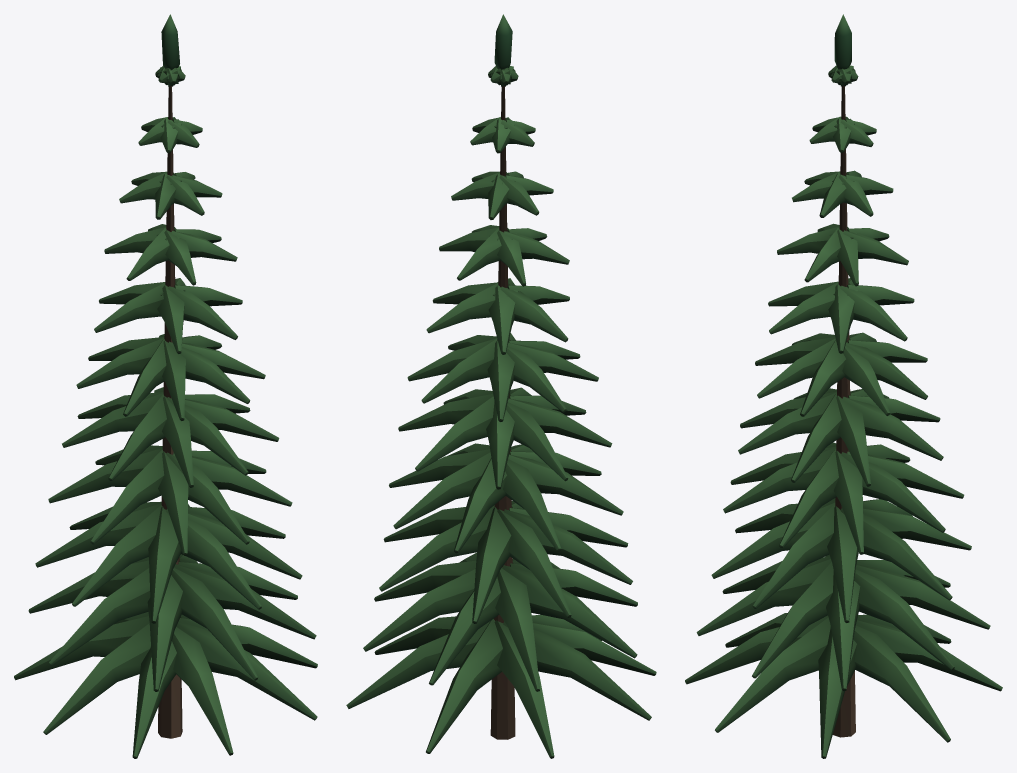
File: spruce_tall.glb
3 views of the same model, side by side, from view 1: azimuth 30°, elevation 25°; view 2: azimuth 150°, elevation 25°; view 3: azimuth 270°, elevation 25° (orthographic).
Parts seen in each view (by area): view 1: spruce_tall_mesh; view 2: spruce_tall_mesh; view 3: spruce_tall_mesh.
Boxes of the visible parts, left/top/right/bottom form: spruce_tall_mesh: left=14, top=14, right=317, bottom=758; spruce_tall_mesh: left=346, top=14, right=656, bottom=758; spruce_tall_mesh: left=685, top=14, right=1002, bottom=758.
Bounding box in the file's own units: 7.49 × 18.75 × 7.52.
